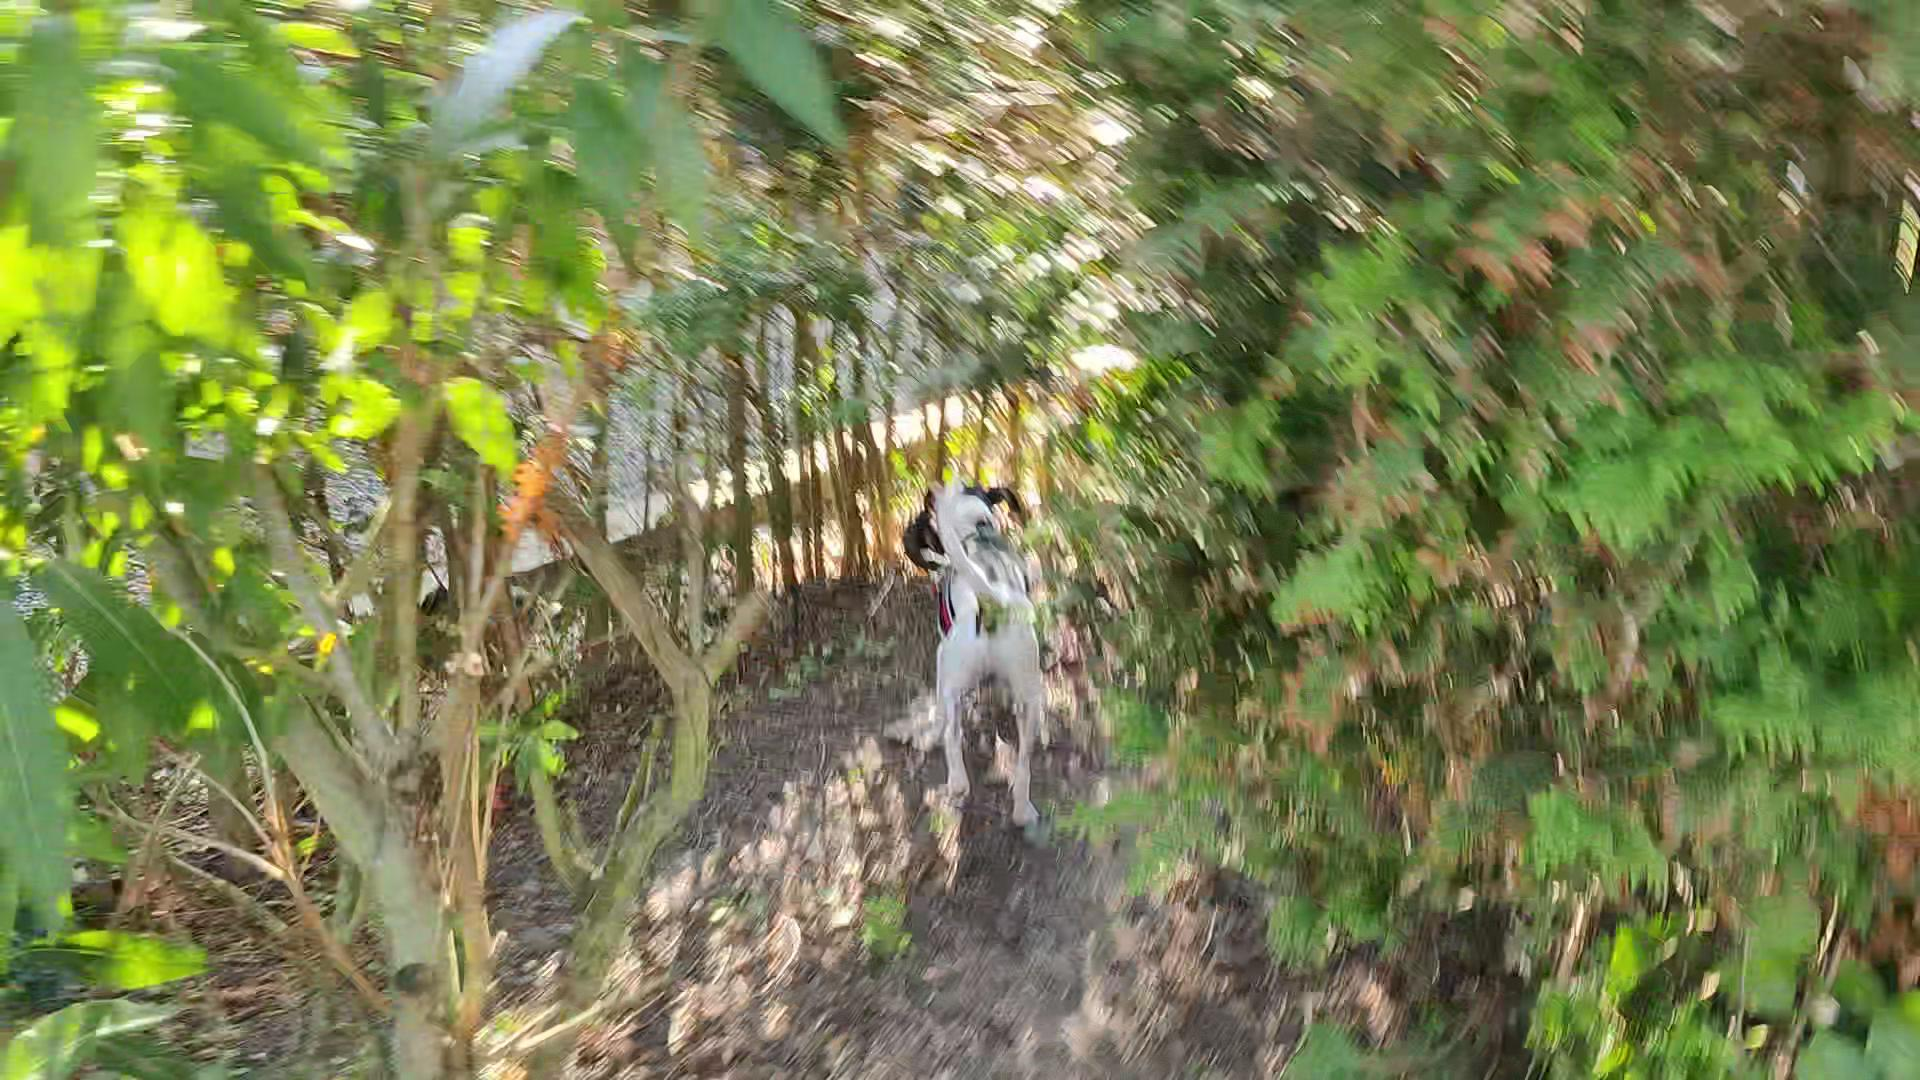Dog: (893, 452, 1065, 844)
